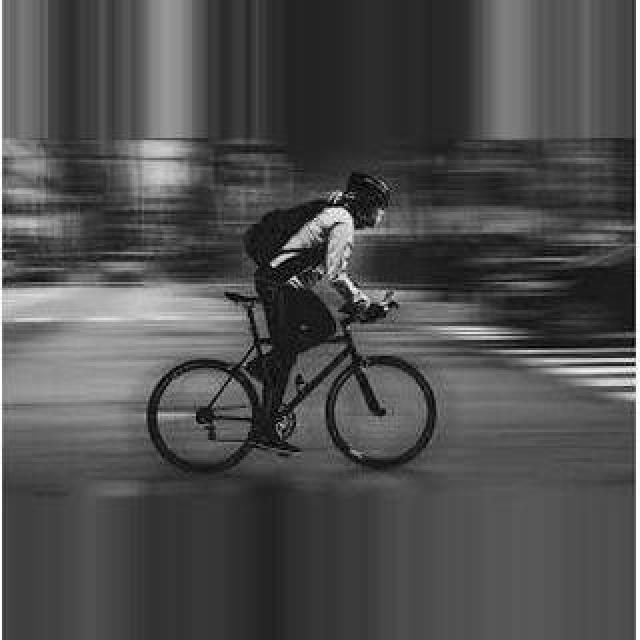MC-Bike: (240, 170, 398, 444)
Person: (151, 282, 437, 474)
